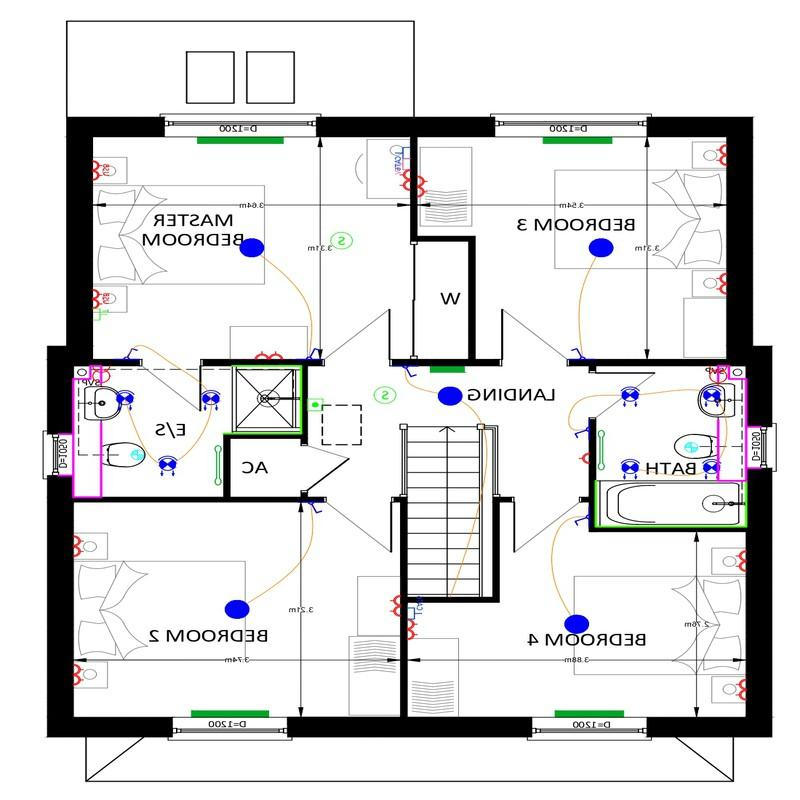Cat 6 Data Socket: (407, 603, 424, 619), (391, 145, 411, 157)
Ceiling Mounted Continuous Extract Fan With Boost Mode Activated By Light Switch: (126, 440, 153, 463), (683, 437, 701, 458)
Double Socket: (70, 532, 94, 562), (713, 262, 730, 299), (416, 171, 432, 205), (72, 658, 85, 694), (393, 168, 411, 193), (734, 673, 748, 705), (405, 619, 422, 644), (387, 593, 403, 619), (734, 548, 748, 575), (717, 137, 728, 170), (251, 350, 285, 360)
Full Height Tiling: (226, 363, 306, 436)
Light Switch: (302, 500, 329, 523), (570, 506, 590, 534), (565, 342, 596, 359), (395, 363, 420, 383), (301, 344, 326, 360), (570, 423, 589, 444), (121, 345, 139, 360)
Low Energy Downlighter: (197, 381, 226, 422), (614, 381, 649, 410), (153, 452, 183, 485), (616, 452, 647, 483), (697, 453, 729, 482), (114, 388, 142, 417), (701, 384, 727, 415)
Low Energy Pendant Light: (213, 591, 260, 624), (433, 379, 472, 410), (588, 231, 621, 264), (236, 233, 272, 263), (559, 611, 596, 633)
Mains Wired Smoke Detector: (326, 219, 363, 253), (373, 381, 396, 409), (305, 395, 326, 415)
Radiator: (186, 703, 273, 720), (185, 136, 288, 150), (546, 705, 633, 721), (534, 134, 620, 149), (424, 362, 470, 376)
Shaver Socket: (87, 363, 114, 390), (705, 364, 730, 386)
Single Socket: (592, 475, 756, 530), (577, 447, 592, 474)
TV & Satellite Multisocket: (391, 155, 410, 174)
Telephone Socket: (91, 308, 111, 321)
USB Double Socket: (91, 156, 112, 184), (93, 284, 113, 309)
